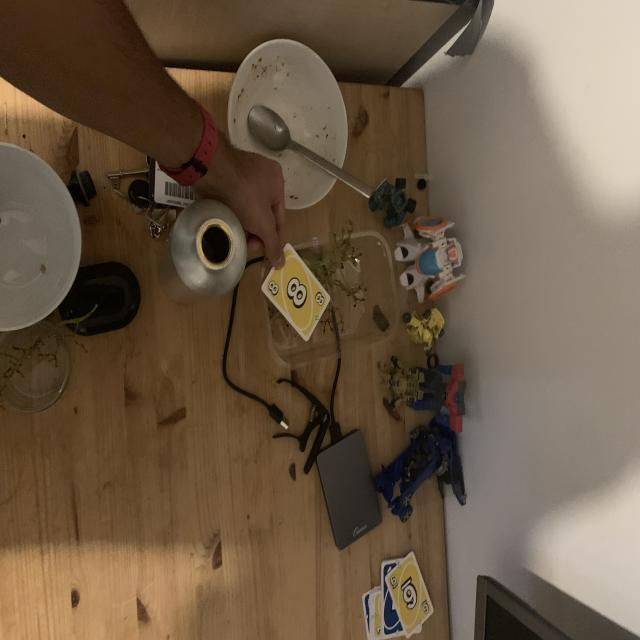lyellow-6: (388, 574, 399, 590)
lyellow-8: (267, 279, 282, 298)
